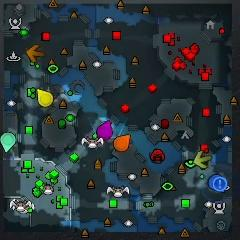Other: (214, 176, 227, 191)
p1: (209, 174, 224, 192)
p2: (0, 132, 16, 152)
p3: (97, 120, 113, 140)
p4: (37, 89, 53, 108)
p5: (113, 133, 130, 151)
x2: (194, 151, 211, 169)
x5: (27, 45, 45, 63)
